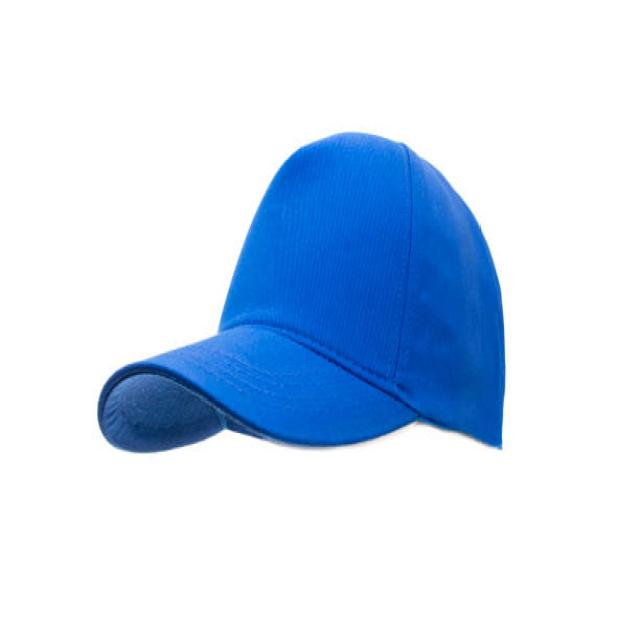Nonhelmet: (94, 126, 509, 460)
